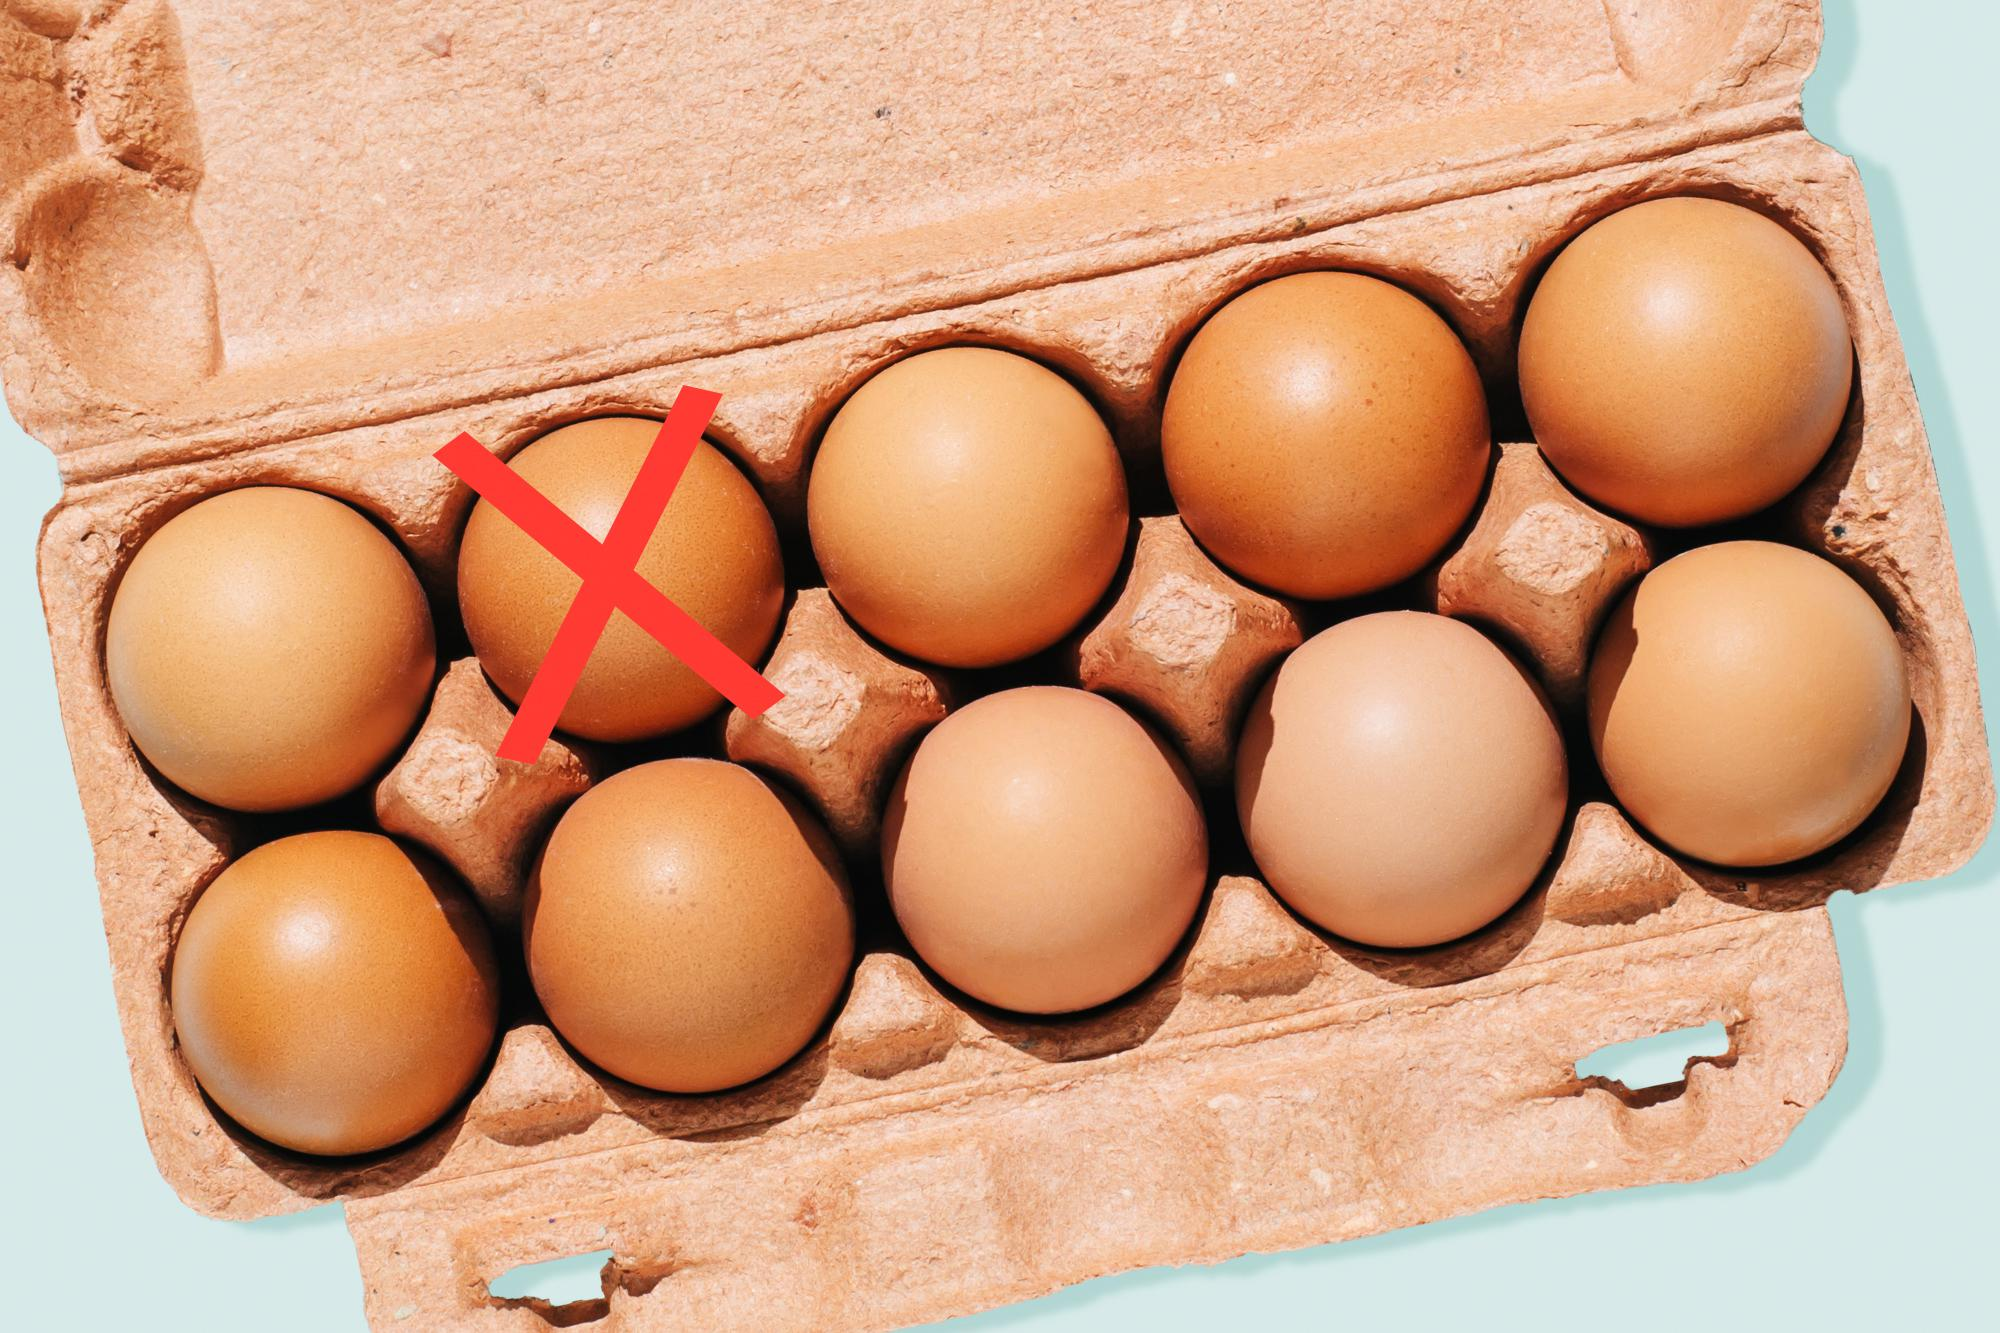egg: (149, 812, 517, 1168), (95, 460, 448, 824), (1233, 595, 1584, 961), (510, 736, 862, 1098), (1512, 190, 1869, 540), (873, 675, 1219, 1024), (1149, 259, 1500, 603), (1584, 531, 1924, 878), (796, 338, 1142, 669)
